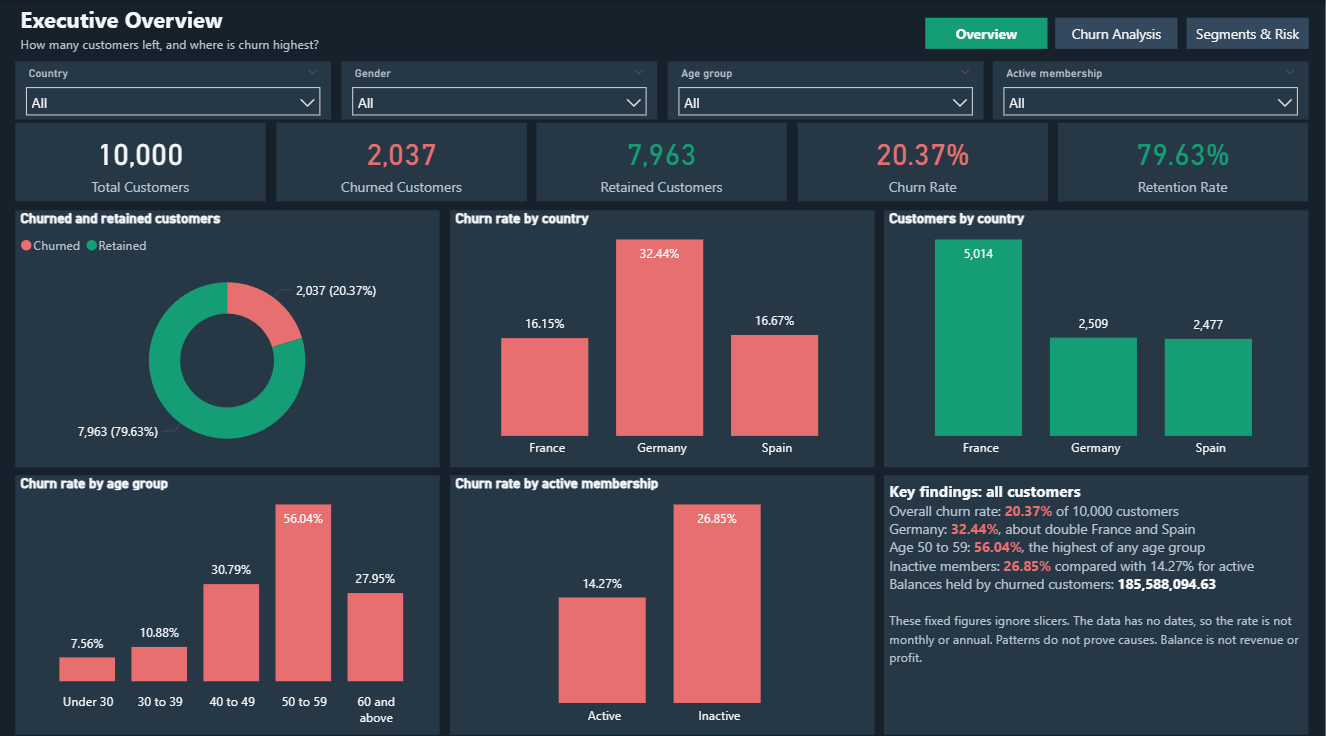

The dashboard page shown, as its layout file describes it:
{"tool":"powerbi","page":{"name":"Executive Overview","canvas":[1280,720],"ordinal":0},"visuals":[{"type":"textbox","box":[16,0,800,60],"z":100},{"type":"actionButton","box":[894,18,118,30],"z":200},{"type":"actionButton","box":[1020,18,118,30],"z":300},{"type":"actionButton","box":[1146,18,118,30],"z":400},{"type":"slicer","fields":{"Values":["bank_customers.country"]},"box":[16,60,304.5,56],"z":500},{"type":"slicer","fields":{"Values":["bank_customers.gender"]},"box":[330.5,60,304.5,56],"z":600},{"type":"slicer","fields":{"Values":["bank_customers.age_group"]},"box":[645,60,304.5,56],"z":700},{"type":"slicer","fields":{"Values":["bank_customers.Membership Status"]},"box":[959.5,60,304.5,56],"z":800},{"type":"card","fields":{"Values":["bank_customers.Total Customers"]},"box":[16,120,241.6,76],"z":900},{"type":"card","fields":{"Values":["bank_customers.Churned Customers"]},"box":[267.6,120,241.6,76],"z":1000},{"type":"card","fields":{"Values":["bank_customers.Retained Customers"]},"box":[519.2,120,241.6,76],"z":1100},{"type":"card","fields":{"Values":["bank_customers.Churn Rate"]},"box":[770.8,120,241.6,76],"z":1200},{"type":"card","fields":{"Values":["bank_customers.Retention Rate"]},"box":[1022.4,120,241.6,76],"z":1300},{"type":"donutChart","title":"Churned and retained customers","fields":{"Category":["bank_customers.Customer Status"],"Y":["bank_customers.Total Customers"]},"box":[16,204,409.3,248],"z":1400},{"type":"clusteredColumnChart","title":"Churn rate by country","fields":{"Category":["bank_customers.country"],"Y":["bank_customers.Churn Rate"]},"box":[435.3,204,409.3,248],"z":1500},{"type":"clusteredColumnChart","title":"Customers by country","fields":{"Category":["bank_customers.country"],"Y":["bank_customers.Total Customers"]},"box":[854.7,204,409.3,248],"z":1600},{"type":"clusteredColumnChart","title":"Churn rate by age group","fields":{"Category":["bank_customers.age_group"],"Y":["bank_customers.Churn Rate"]},"box":[16,460,409.3,250],"z":1700},{"type":"clusteredColumnChart","title":"Churn rate by active membership","fields":{"Category":["bank_customers.Membership Status"],"Y":["bank_customers.Churn Rate"]},"box":[435.3,460,409.3,250],"z":1800},{"type":"textbox","box":[854.7,460,409.3,250],"z":1900}]}

Visuals, with their boxes in screenshot pixels (x1, y1, x2, y2), scaled from the page's 1280x720 canvas onto the 1326x736 screenshot:
textbox: [x1=17, y1=0, x2=845, y2=61]
actionButton: [x1=926, y1=18, x2=1048, y2=49]
actionButton: [x1=1057, y1=18, x2=1179, y2=49]
actionButton: [x1=1187, y1=18, x2=1309, y2=49]
slicer - bank_customers.country: [x1=17, y1=61, x2=332, y2=119]
slicer - bank_customers.gender: [x1=342, y1=61, x2=658, y2=119]
slicer - bank_customers.age_group: [x1=668, y1=61, x2=984, y2=119]
slicer - bank_customers.Membership Status: [x1=994, y1=61, x2=1309, y2=119]
card - bank_customers.Total Customers: [x1=17, y1=123, x2=267, y2=200]
card - bank_customers.Churned Customers: [x1=277, y1=123, x2=527, y2=200]
card - bank_customers.Retained Customers: [x1=538, y1=123, x2=788, y2=200]
card - bank_customers.Churn Rate: [x1=799, y1=123, x2=1049, y2=200]
card - bank_customers.Retention Rate: [x1=1059, y1=123, x2=1309, y2=200]
"Churned and retained customers" donutChart: [x1=17, y1=209, x2=441, y2=462]
"Churn rate by country" clusteredColumnChart: [x1=451, y1=209, x2=875, y2=462]
"Customers by country" clusteredColumnChart: [x1=885, y1=209, x2=1309, y2=462]
"Churn rate by age group" clusteredColumnChart: [x1=17, y1=470, x2=441, y2=726]
"Churn rate by active membership" clusteredColumnChart: [x1=451, y1=470, x2=875, y2=726]
textbox: [x1=885, y1=470, x2=1309, y2=726]
